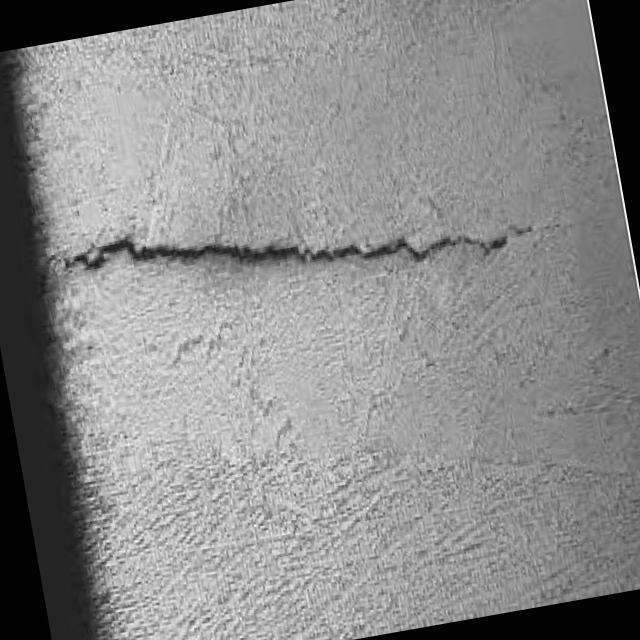defect: (56, 224, 519, 279)
